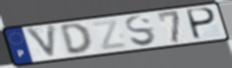7: (155, 9, 182, 45)
D: (58, 22, 94, 55)
P: (186, 7, 218, 41)
S: (124, 14, 158, 48)
V: (23, 23, 59, 61)
Z: (90, 18, 130, 52)
